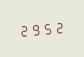five: (42, 19, 53, 35)
nine: (30, 21, 41, 36)
two: (18, 22, 29, 38), (54, 18, 65, 34)
